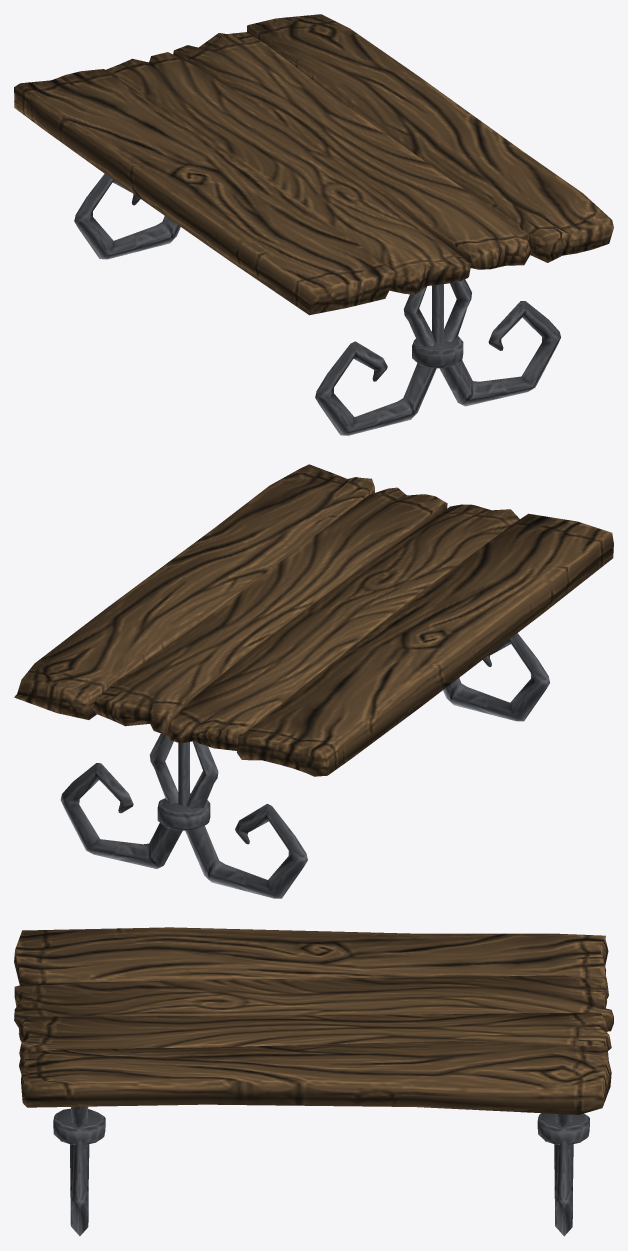
Rendered from table5.glb.
The picture shows the model from 3 angles, top to bottom: view 1: azimuth 30°, elevation 25°; view 2: azimuth 150°, elevation 25°; view 3: azimuth 270°, elevation 25°; orthographic projection.
Parts seen in each view (by area): view 1: node_id106; view 2: node_id106; view 3: node_id106.
Boxes of the visible parts, x1,y1,x2,y2 form: node_id106: [14, 14, 613, 435]; node_id106: [14, 464, 613, 898]; node_id106: [14, 927, 613, 1236].
Size of the model in its own units: 0.512 by 0.2845 by 0.8371.
1 material, 1 textured.
